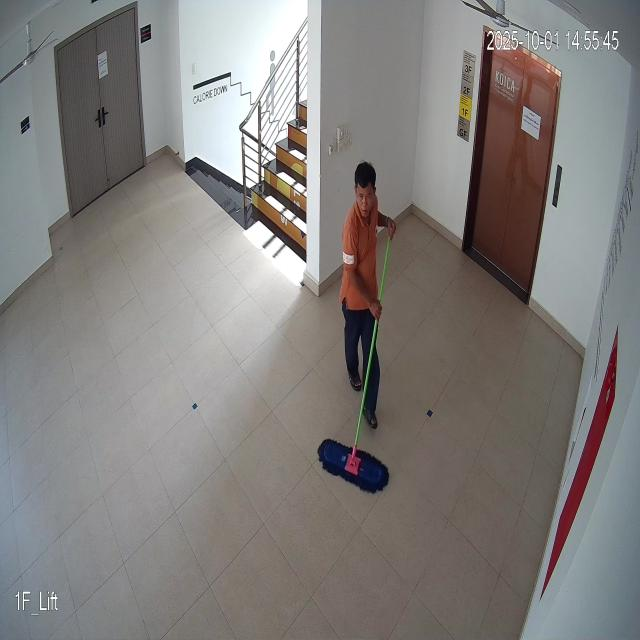face: (349, 157, 380, 225)
